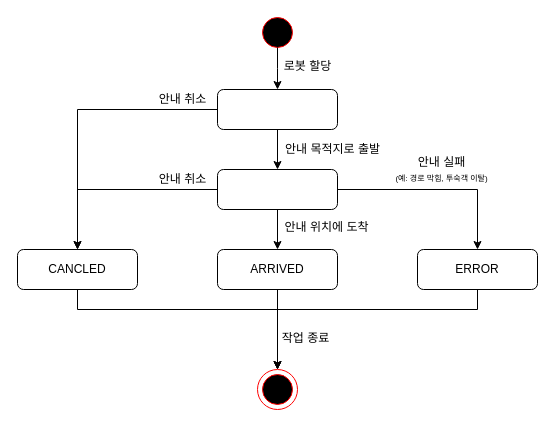
Some shapes in this 555 by 427 pixel diagram are drawn without their labels. The shapes that lost their labels are listed below. From the top down, each one's box as (x1, y1, x2, y2) in pixels, then its label:
(216, 88, 338, 130): ASSIGNED
(216, 168, 338, 210): GUIDING
